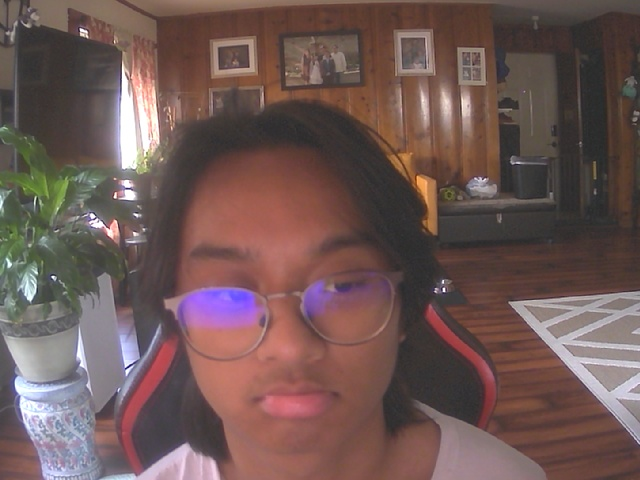sad: (158, 113, 421, 458)
